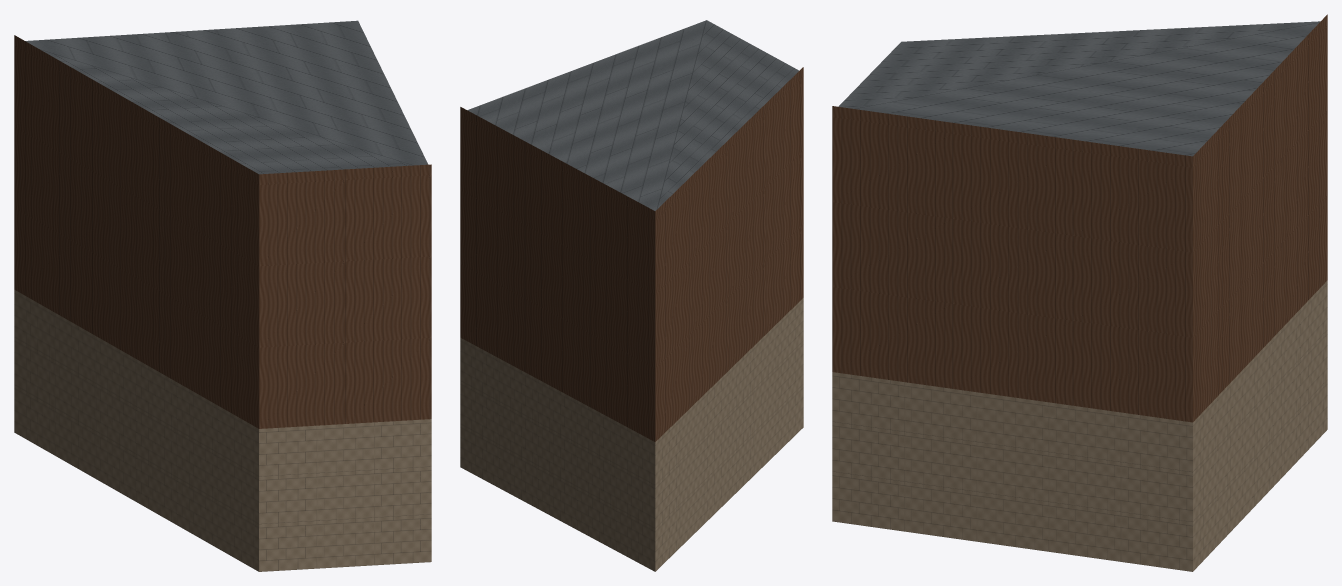
File: bld_c44_48_187.gltf
3 renders of one model, left to right at view 1: azimuth 30°, elevation 25°; view 2: azimuth 150°, elevation 25°; view 3: azimuth 270°, elevation 25°, orthographic. The views are drawn at different scales.
Parts seen in each view (by area): view 1: bld_c44_48_187; view 2: bld_c44_48_187; view 3: bld_c44_48_187.
Part boxes in pixels (<box>): bld_c44_48_187: <box>14,20,431,571</box>; bld_c44_48_187: <box>460,20,803,571</box>; bld_c44_48_187: <box>832,14,1327,571</box>.
Bounding box in the file's own units: 10.42 × 14.18 × 15.32.
4 materials, 4 textured.
